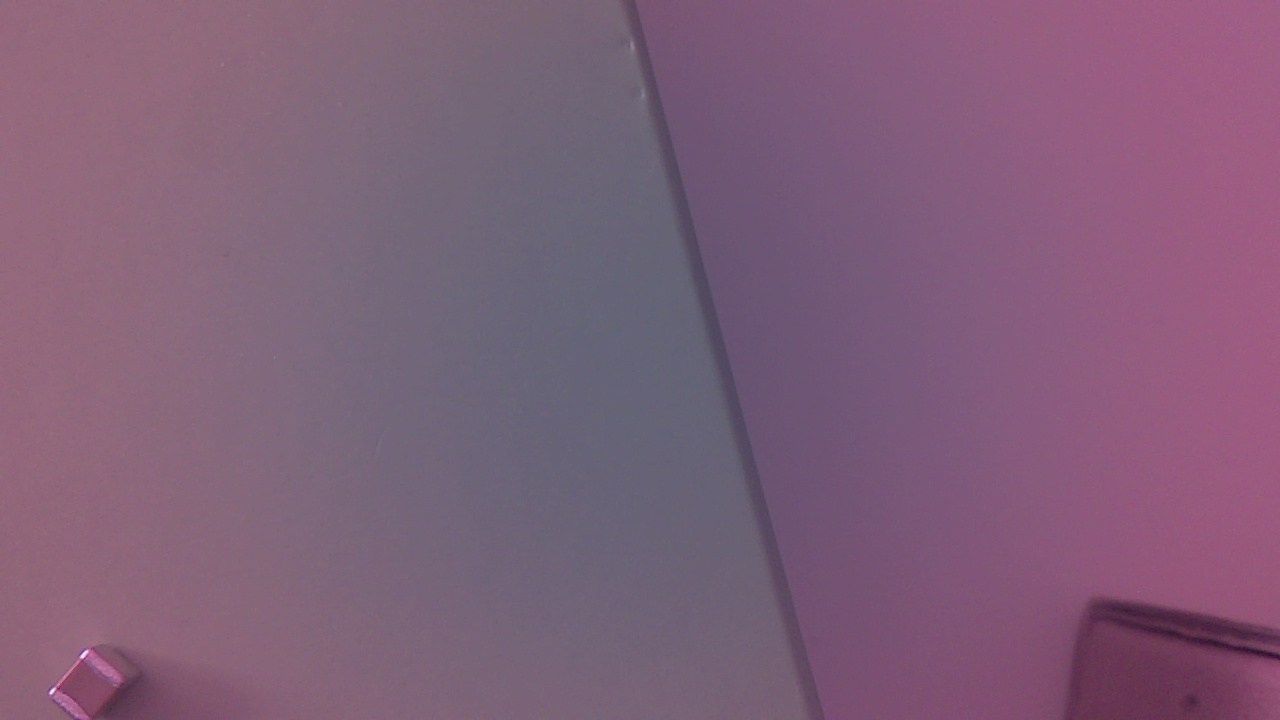Condensator: (46, 645, 147, 720)
